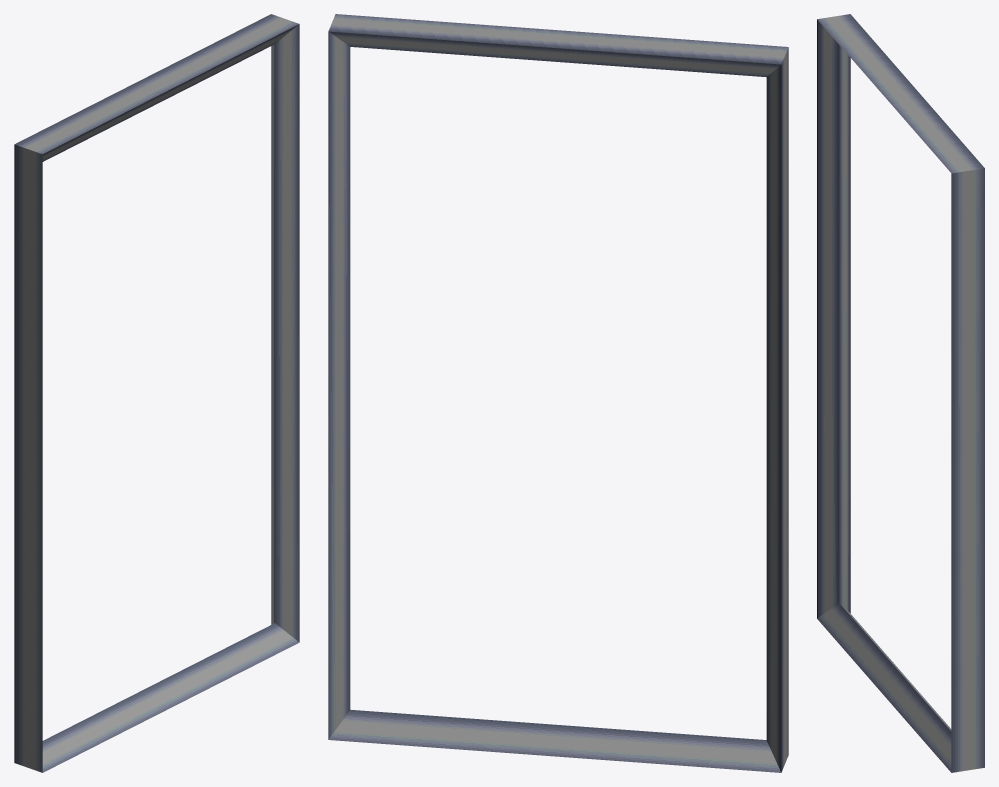
File: primary_118.glb
3 views of the same model, side by side, from view 1: azimuth 30°, elevation 25°; view 2: azimuth 150°, elevation 25°; view 3: azimuth 270°, elevation 25° (orthographic). The views are drawn at different scales.
Parts seen in each view (by area): view 1: Object; view 2: Object; view 3: Object.
Boxes of the visible parts, x1=… form: Object: x1=14, y1=14, x2=299, y2=772; Object: x1=328, y1=14, x2=788, y2=772; Object: x1=817, y1=14, x2=984, y2=772.
Bounding box in the file's own units: 1.22 × 2.13 × 0.5408.
1 material, 1 textured.
